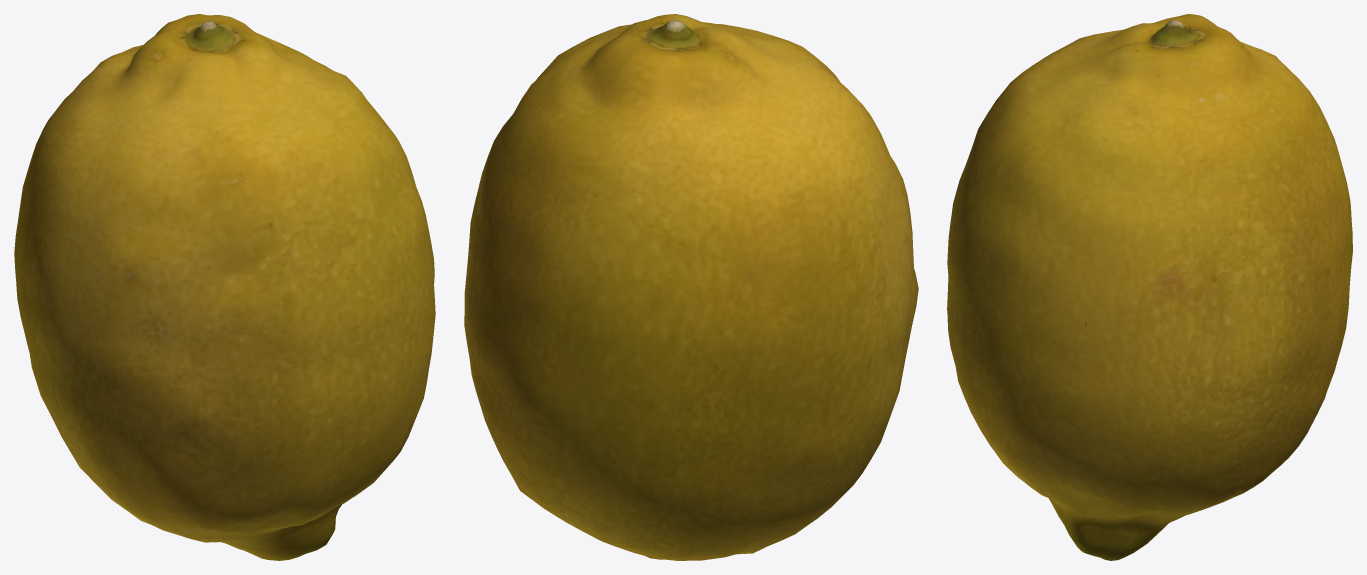
Rendered from lemon.glb.
3 views of the same model, side by side, from view 1: azimuth 30°, elevation 25°; view 2: azimuth 150°, elevation 25°; view 3: azimuth 270°, elevation 25° (orthographic). The views are drawn at different scales.
Parts seen in each view (by area): view 1: lemon; view 2: lemon; view 3: lemon.
Boxes of the visible parts, box(x1,y1,x2,y2) form: lemon: box(14, 14, 435, 560); lemon: box(464, 14, 918, 560); lemon: box(947, 14, 1352, 560).
Bounding box in the file's own units: 0.0687 × 0.0954 × 0.0683.
Materials: 1 (1 with a texture image).
